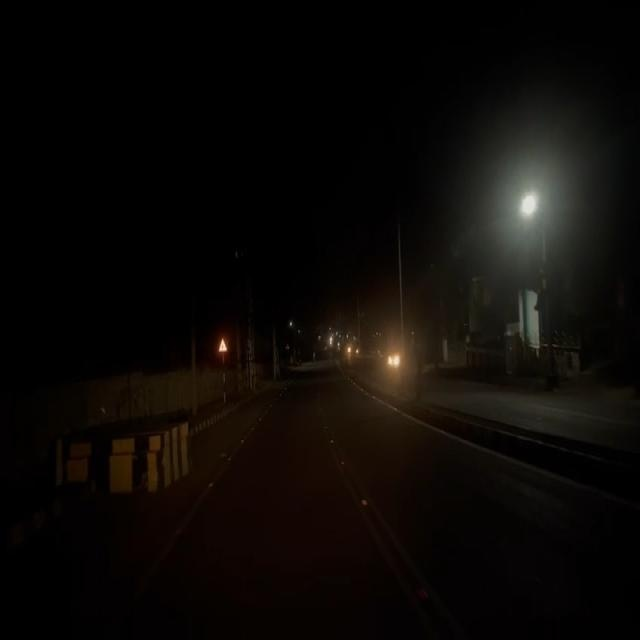bien_nguy_hiem: (217, 336, 228, 353)
